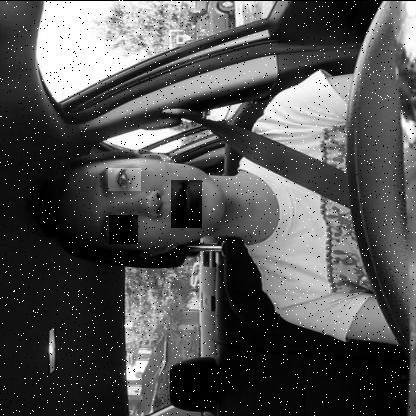seatbelt: (29, 124, 350, 270)
